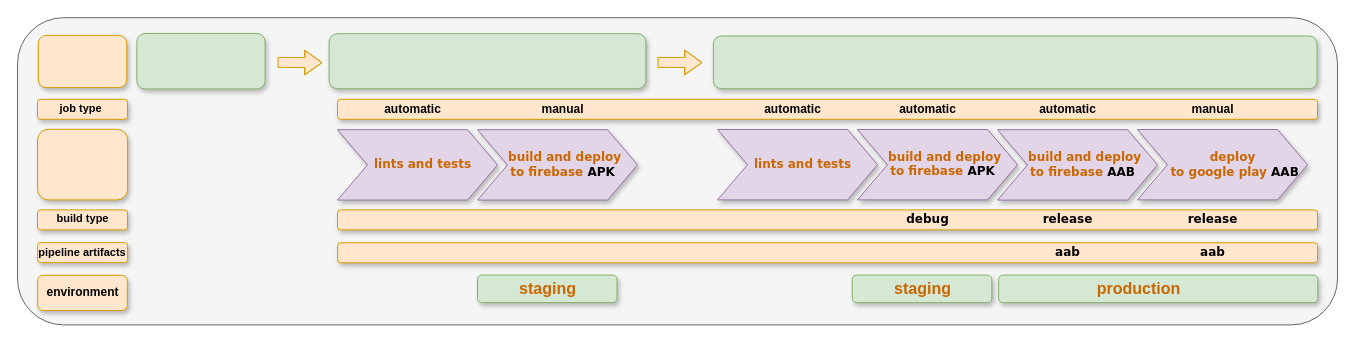
The diagram is 1355 pixels wide and 343 high, and some of its shapes have lost their labels. The shapes that lost their labels are listed below. From the top down, each one's centre as x and y in pixels, then its label:
At (83,62): "flow".
At (201,62): "feature/branch".
At (488,62): "merge request".
At (1016,63): "main".
At (83,165): "stages".
